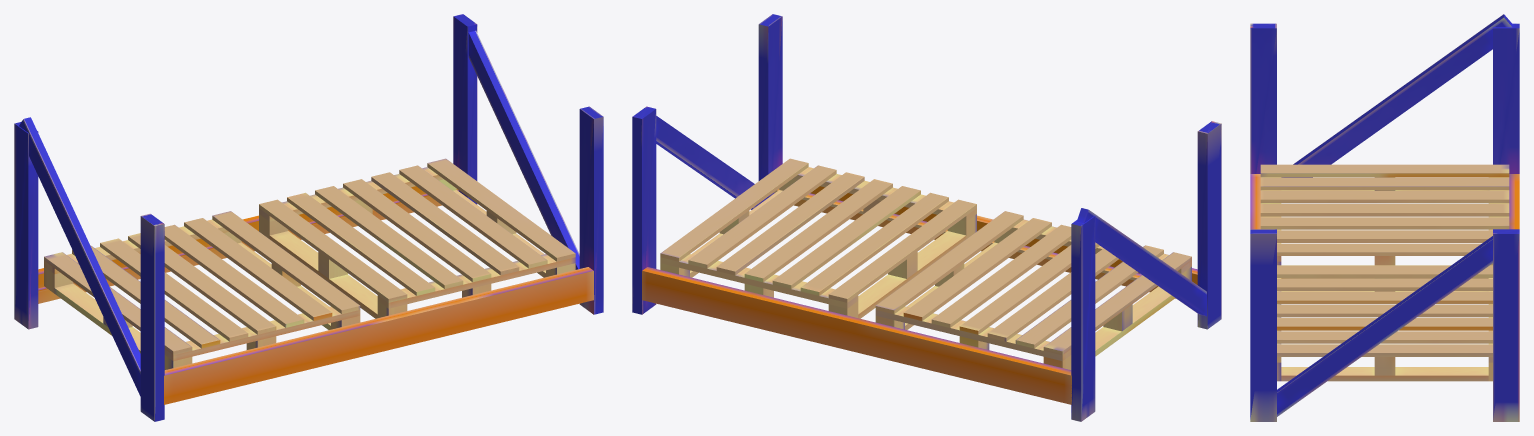
The model's file is Longarina_Junto_2pallets_128px_1m.glb.
3 views of the same model, side by side, from view 1: azimuth 30°, elevation 25°; view 2: azimuth 150°, elevation 25°; view 3: azimuth 270°, elevation 25° (orthographic). The views are drawn at different scales.
Parts seen in each view (by area): view 1: Barras_Laterais; view 2: Barras_Laterais; view 3: Barras_Laterais.
Boxes of the visible parts, x1=… form: Barras_Laterais: x1=14, y1=14, x2=603, y2=421; Barras_Laterais: x1=632, y1=14, x2=1221, y2=421; Barras_Laterais: x1=1250, y1=14, x2=1519, y2=421.
Bounding box in the file's own units: 2.4 × 1.05 × 1.3.
Materials: 1 (1 with a texture image).
